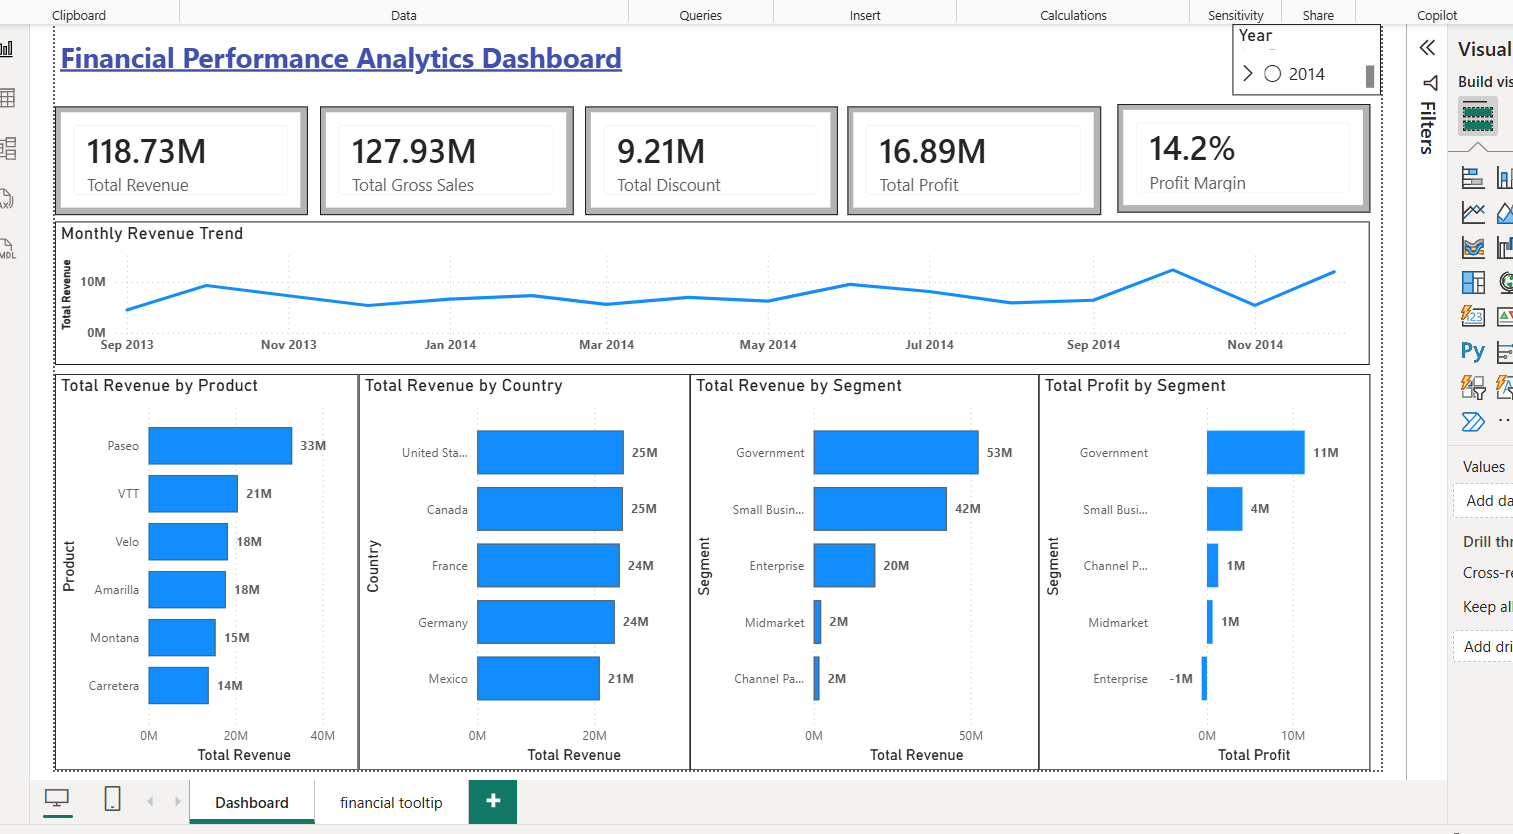

The dashboard page shown, as its layout file describes it:
{"tool":"powerbi","page":{"name":"Dashboard","canvas":[1280,720],"ordinal":0},"visuals":[{"type":"cardVisual","fields":{"Data":["Calendar.Total Revenue"]},"box":[0,81.7,243.6,105.2],"z":0},{"type":"cardVisual","fields":{"Data":["Calendar.Total Profit"]},"box":[765.4,83,245,105.2],"z":1000},{"type":"cardVisual","fields":{"Data":["Calendar.Profit Margin"]},"box":[1025.6,83,243.6,105.2],"z":2000},{"type":"cardVisual","fields":{"Data":["Calendar.Total Gross Sales"]},"box":[256.1,81.7,245,105.2],"z":3000},{"type":"cardVisual","fields":{"Data":["Calendar.Total Discount"]},"box":[512.1,81.7,243.6,105.2],"z":4000},{"type":"lineChart","fields":{"Y":["Calendar.Total Revenue"],"Category":["Calendar.Date.Variation.Date Hierarchy.Year","Calendar.Date.Variation.Date Hierarchy.Quarter","Calendar.Date.Variation.Date Hierarchy.Month","Calendar.Date.Variation.Date Hierarchy.Day"]},"box":[0,188.2,1269.2,138.7],"z":5000},{"type":"clusteredBarChart","fields":{"Y":["Calendar.Total Revenue"],"Category":["financials.Product"]},"box":[0,337.8,293.2,382.4],"z":6000},{"type":"clusteredBarChart","fields":{"Y":["Calendar.Total Revenue"],"Category":["financials.Country"]},"box":[293.2,337.8,319.7,382.4],"z":7000},{"type":"clusteredBarChart","fields":{"Category":["financials.Segment"],"Y":["Calendar.Total Revenue"]},"box":[612.9,337.8,336.6,382.4],"z":8000},{"type":"clusteredBarChart","fields":{"Y":["Calendar.Total Profit"],"Category":["financials.Segment"]},"box":[949.5,337.8,319.7,382.4],"z":9000},{"type":"listSlicer","fields":{"Values":["Calendar.Date.Variation.Date Hierarchy.Year","Calendar.Date.Variation.Date Hierarchy.Quarter","Calendar.Date.Variation.Date Hierarchy.Month","Calendar.Date.Variation.Date Hierarchy.Day"]},"box":[685.3,0,158,68.8],"z":10000},{"type":"textbox","box":[0,8.4,571.9,53.1],"z":11000}]}

Visuals, with their boxes on the page's 1280x720 design canvas (x1, y1, x2, y2). These are canvas units, not pixel positions in the 1513x834 screenshot, which may show the page scaled, cropped or inside an application window:
cardVisual - Calendar.Total Revenue: [0, 82, 244, 187]
cardVisual - Calendar.Total Profit: [765, 83, 1010, 188]
cardVisual - Calendar.Profit Margin: [1026, 83, 1269, 188]
cardVisual - Calendar.Total Gross Sales: [256, 82, 501, 187]
cardVisual - Calendar.Total Discount: [512, 82, 756, 187]
lineChart - Calendar.Total Revenue x Calendar.Date.Variation.Date Hierarchy.Year: [0, 188, 1269, 327]
clusteredBarChart - Calendar.Total Revenue x financials.Product: [0, 338, 293, 720]
clusteredBarChart - Calendar.Total Revenue x financials.Country: [293, 338, 613, 720]
clusteredBarChart - financials.Segment x Calendar.Total Revenue: [613, 338, 950, 720]
clusteredBarChart - Calendar.Total Profit x financials.Segment: [950, 338, 1269, 720]
listSlicer - Calendar.Date.Variation.Date Hierarchy.Year x Calendar.Date.Variation.Date Hierarchy.Quarter: [685, 0, 843, 69]
textbox: [0, 8, 572, 62]
